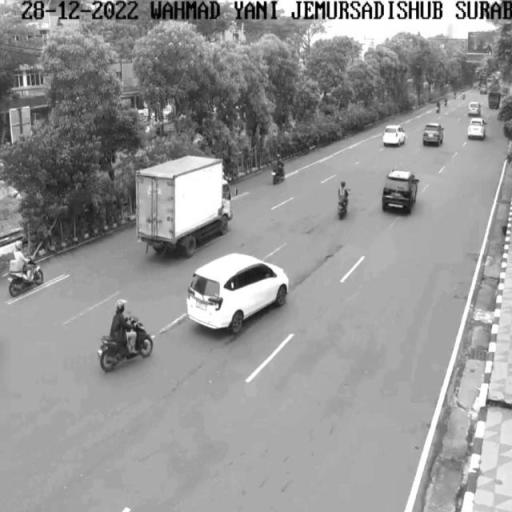car: (187, 254, 291, 332), (382, 169, 420, 215), (422, 123, 446, 144), (382, 125, 405, 146), (469, 121, 485, 141)
motorcycle: (97, 318, 153, 368), (8, 257, 46, 298), (335, 192, 351, 219), (273, 166, 286, 188)
truck: (134, 155, 236, 257)
